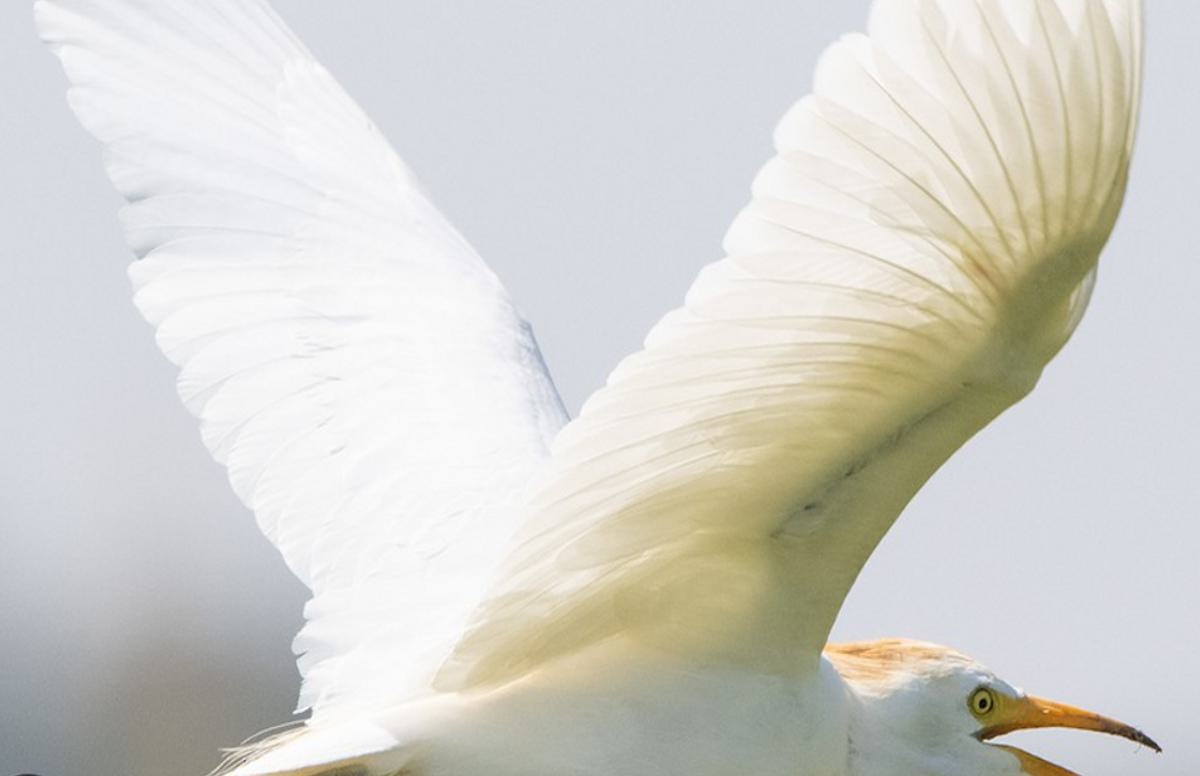egret: (73, 18, 1200, 776)
